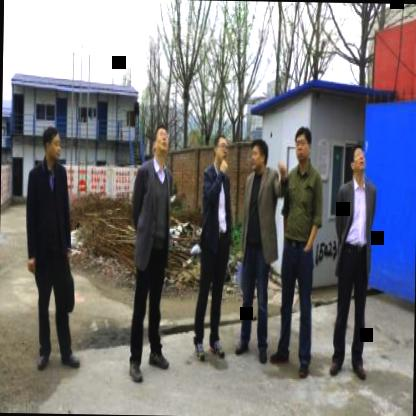head: (247, 134, 271, 175), (40, 120, 62, 164), (292, 121, 314, 165), (152, 122, 172, 162), (210, 128, 230, 166), (348, 140, 368, 178)
